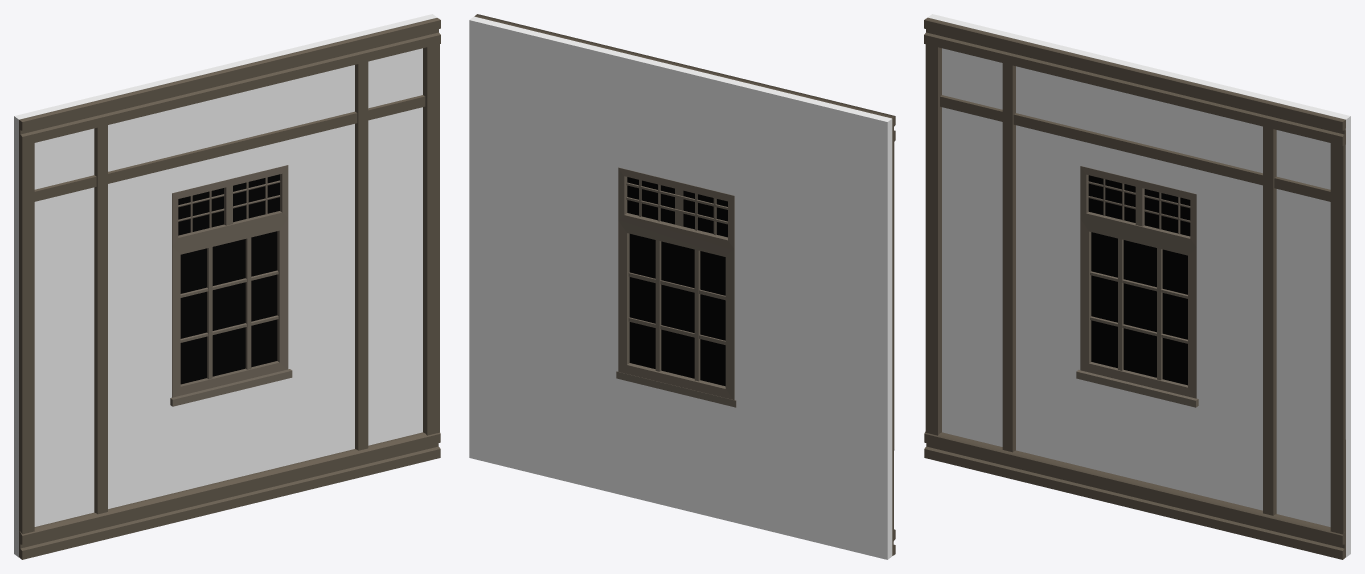
File: WINDOW_03_1.fbx
3 views of the same model, side by side, from view 1: azimuth 30°, elevation 25°; view 2: azimuth 150°, elevation 25°; view 3: azimuth 330°, elevation 25° (orthographic).
Parts seen in each view (by area): view 1: WINDOW_03_1; view 2: WINDOW_03_1; view 3: WINDOW_03_1.
Boxes of the visible parts, left/top/right/bottom form: WINDOW_03_1: left=14, top=14, right=440, bottom=559; WINDOW_03_1: left=469, top=14, right=895, bottom=559; WINDOW_03_1: left=924, top=14, right=1350, bottom=559.
Size of the model in its own units: 300 by 300 by 10.68.
